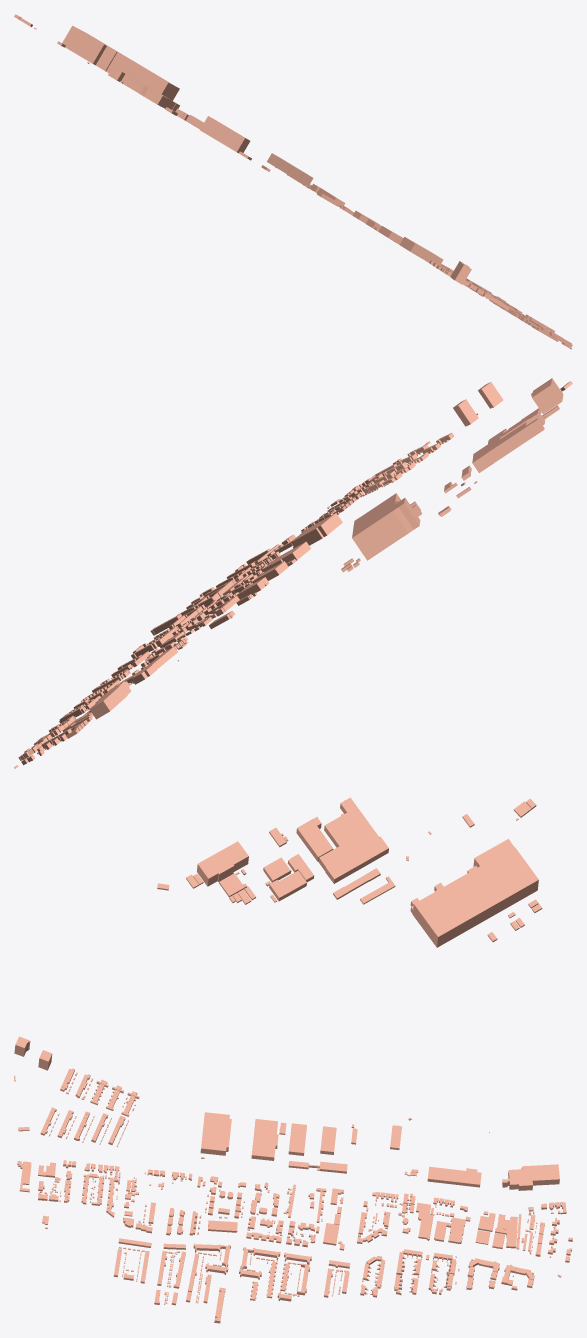
3 renders of one model, top to bottom at view 1: azimuth 30°, elevation 25°; view 2: azimuth 150°, elevation 25°; view 3: azimuth 270°, elevation 25°, orthographic. The views are drawn at different scales.
Bounding box in the file's own units: 1053 × 805 × 1228.
